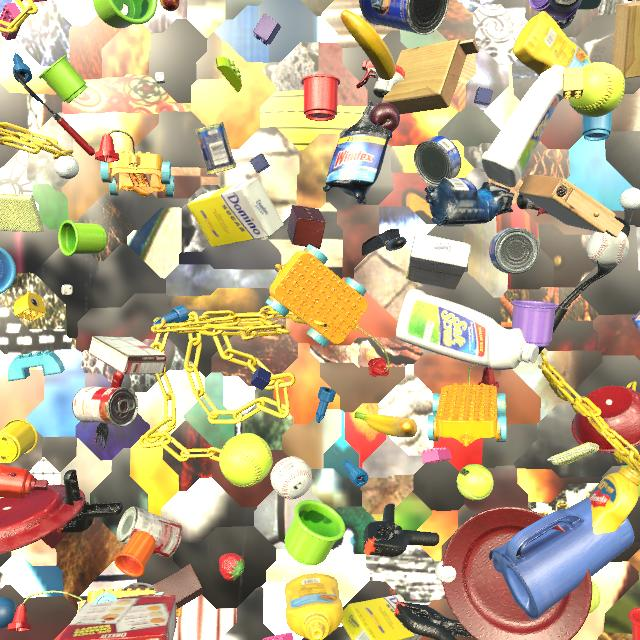ycb_002_master_chef_can: (359, 0, 449, 35)
ycb_003_cracker_box: (58, 594, 177, 640)
ycb_004_sugar_box: (187, 178, 284, 247), (341, 594, 422, 640), (406, 233, 471, 290)
ycb_005_tomato_soup_can: (116, 507, 182, 558), (72, 387, 139, 426)
ycb_006_mustard_bottle: (513, 11, 591, 99), (285, 573, 343, 640), (588, 467, 640, 535)
ycb_007_tuna_fish_can: (414, 136, 461, 186), (489, 228, 539, 274), (632, 313, 640, 332)
ycb_008_pudding_box: (88, 336, 166, 375)
ycb_010_potted_meat_can: (195, 122, 237, 175)
ycb_011_banana: (340, 9, 396, 80), (355, 412, 418, 438)
ycb_012_strawberry: (219, 553, 245, 581)
ycb_018_plum: (369, 103, 400, 132)
